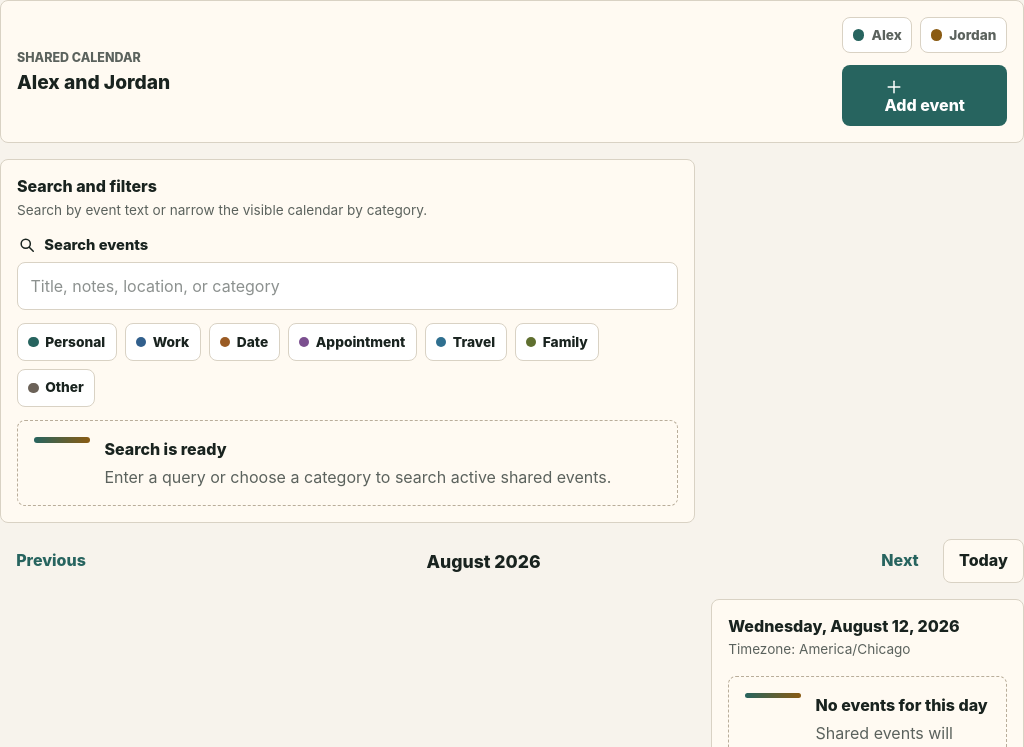
SharedCalendar › creates a categorized recurring event from the event form
Click the button "Add event" at (925, 96), box [842, 65, 1007, 126]
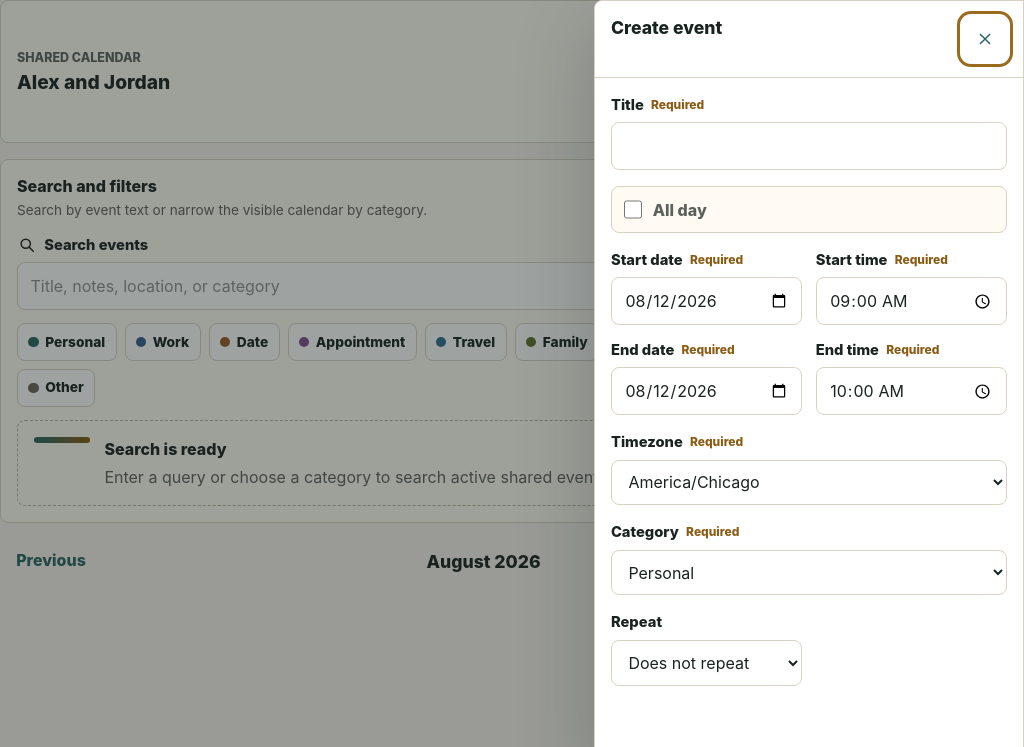
Type "Weekly trip planning" into the field labelled "Title Required" at (809, 146), box [611, 122, 1007, 170]
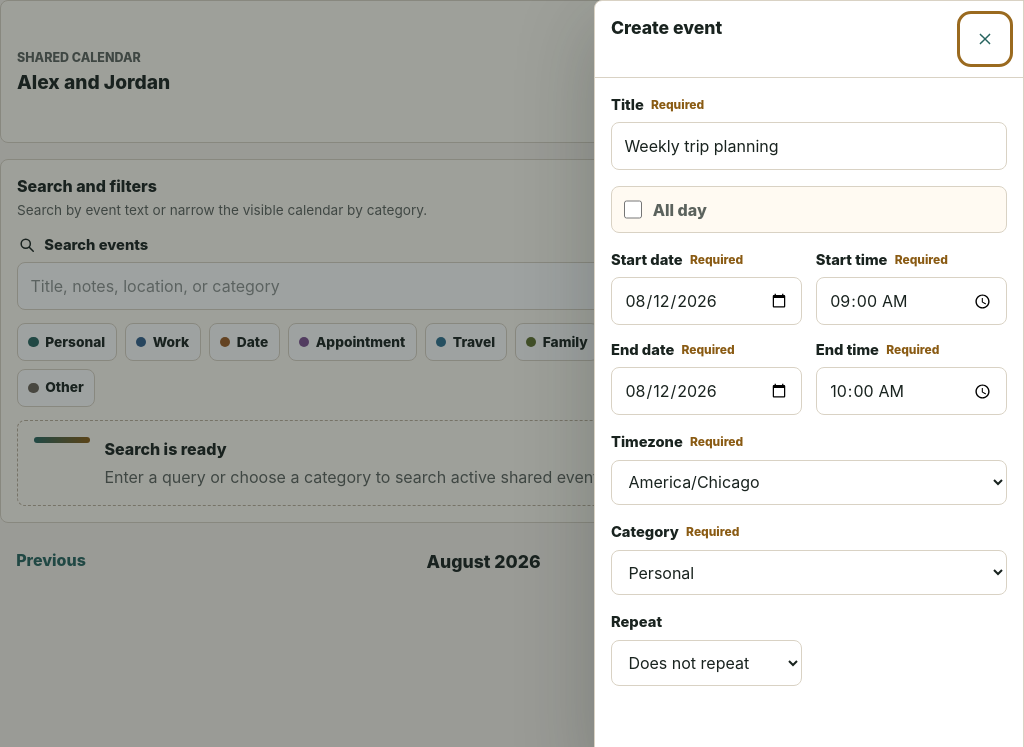
Select "Travel" in the dropdown labelled "Category Required" at (809, 573), box [611, 550, 1007, 596]
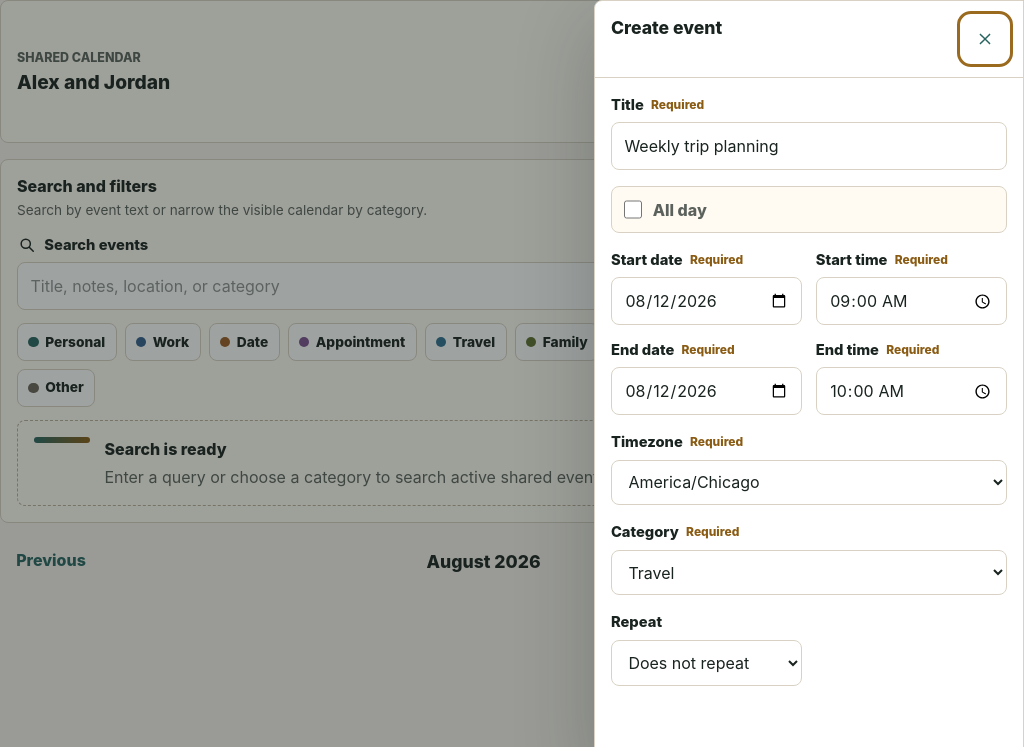
Select "Weekly" in the dropdown labelled "Repeat" at (706, 663), box [611, 640, 802, 686]
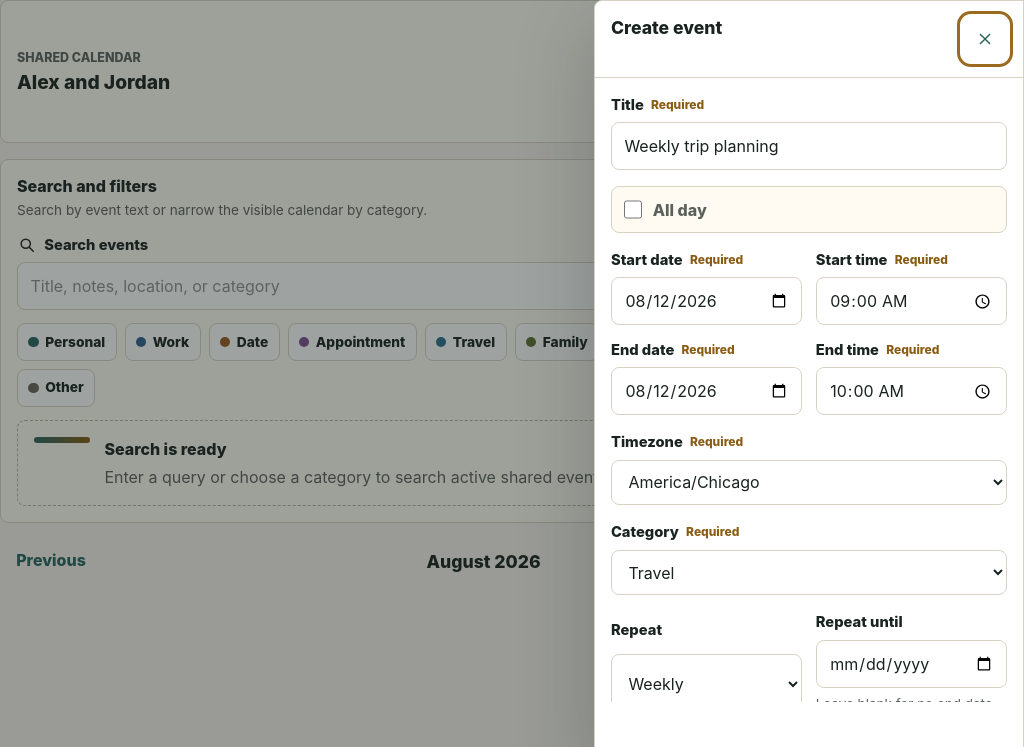
Type "2026-08-26" into the date field labelled "Repeat until" at (911, 664), box [816, 640, 1007, 688]
(page scrolled)
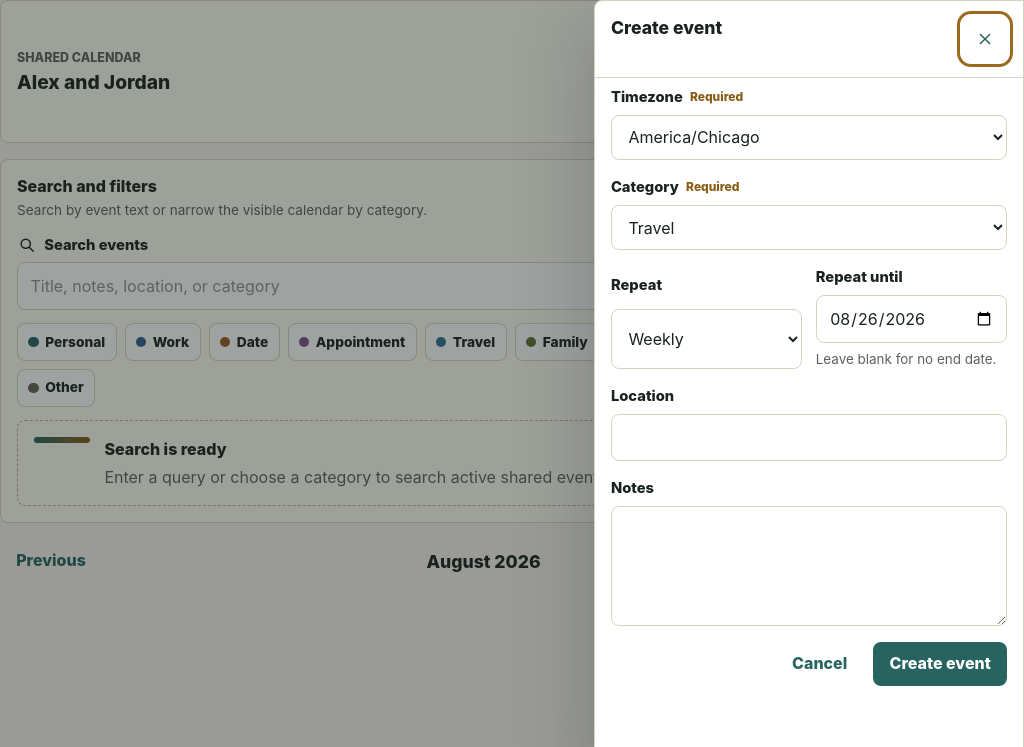
Click the button "Create event" at (940, 664), box [873, 642, 1007, 686]
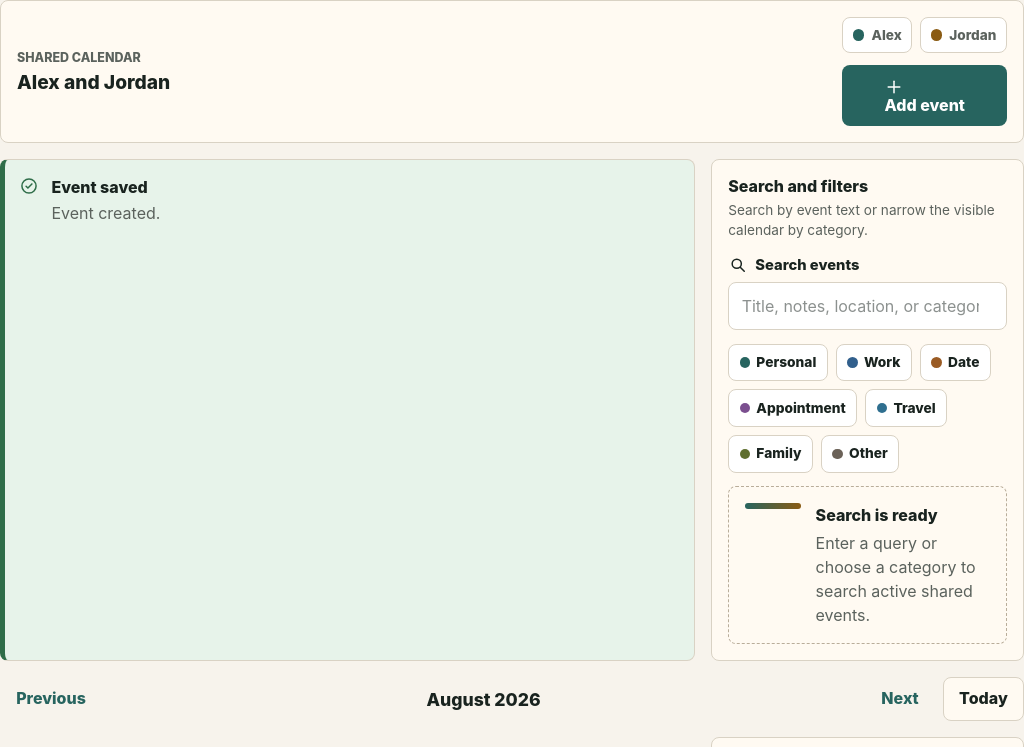
Now the text "Event created." is shown, box [51, 203, 160, 223]
